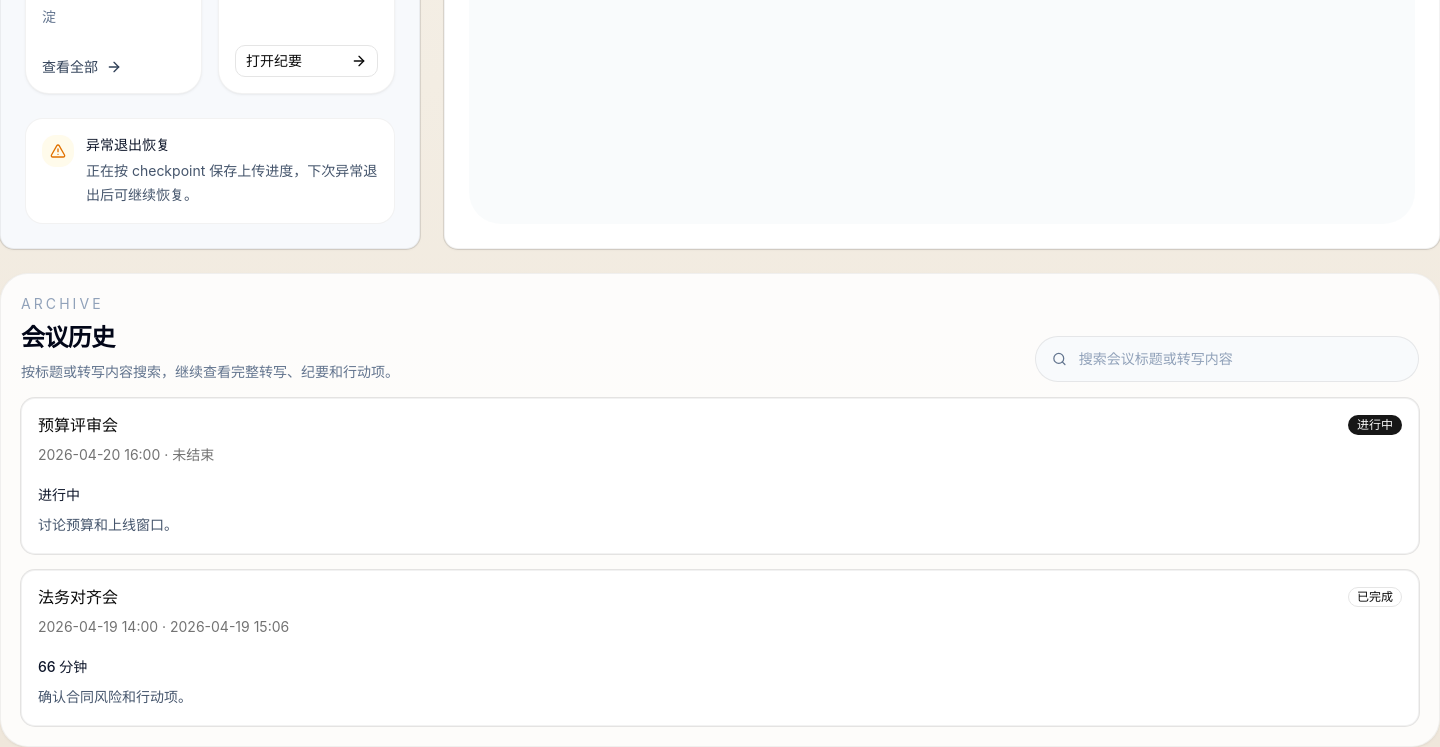
Test case: HomePage › loads meeting history from desktop commands and supports local search filtering
(page scrolled)
Expected: the text "预算评审会" is shown, [38, 417, 118, 434]
Expected: the text "法务对齐会" is shown, [38, 589, 118, 606]
In the field with placeholder "搜索会议标题或转写内容": {"x": 1240, "y": 359} [1079, 349, 1402, 369], type "法务"
(page scrolled)
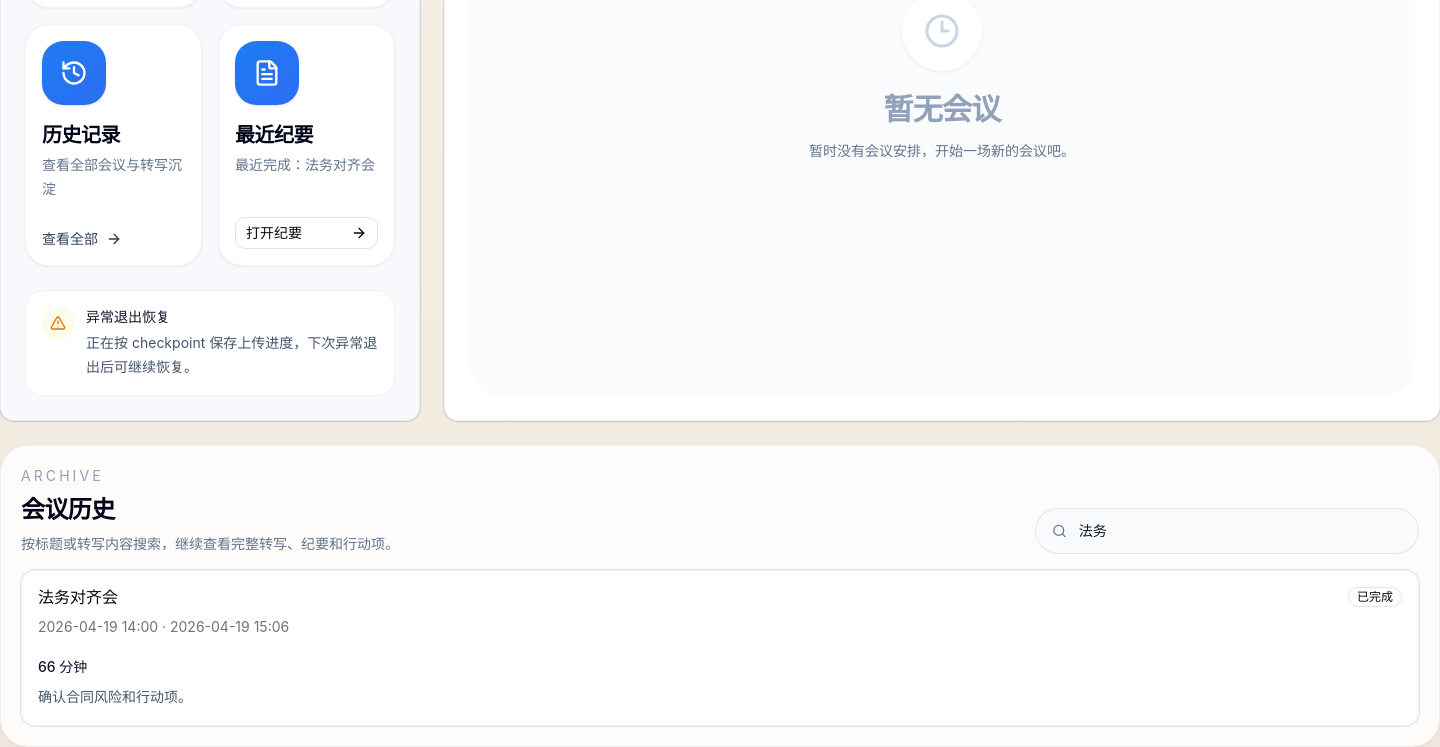
Expected: the text "法务对齐会" is shown, [38, 589, 118, 606]
Now the link "预算评审会" is gone
